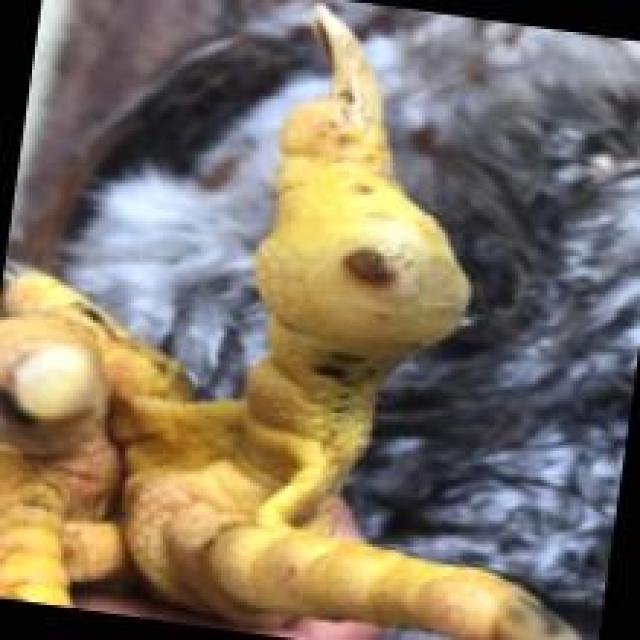Bumble foot: (190, 84, 527, 484)
